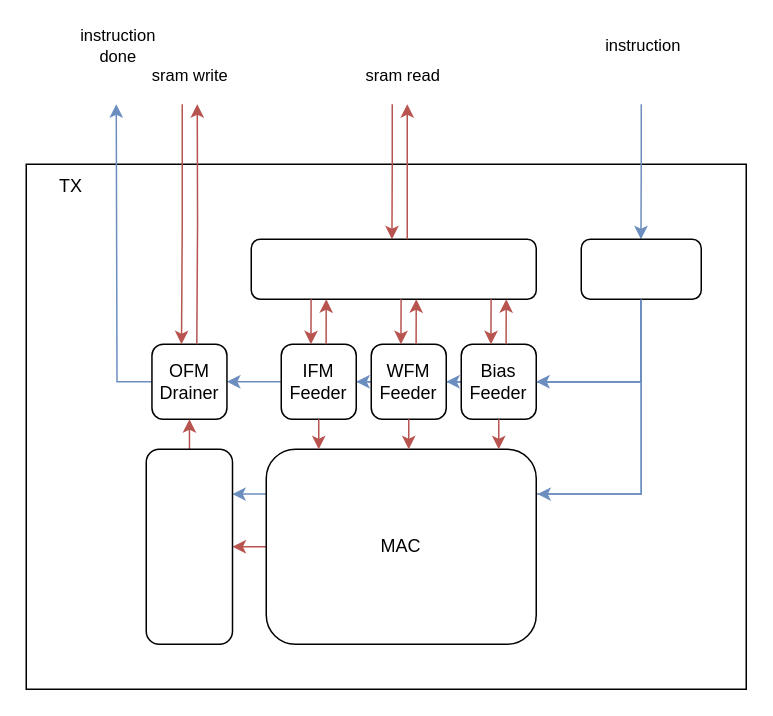
This 773x716 diagram has some shape labels left out. The shapes that lost their labels are listed below. From the top down, each one's centre as x and y in pixels, then its label:
At point 393,268: "Arbiter".
At point 640,268: "Instruction Feeder".
At point 188,546: "datatype converter".
